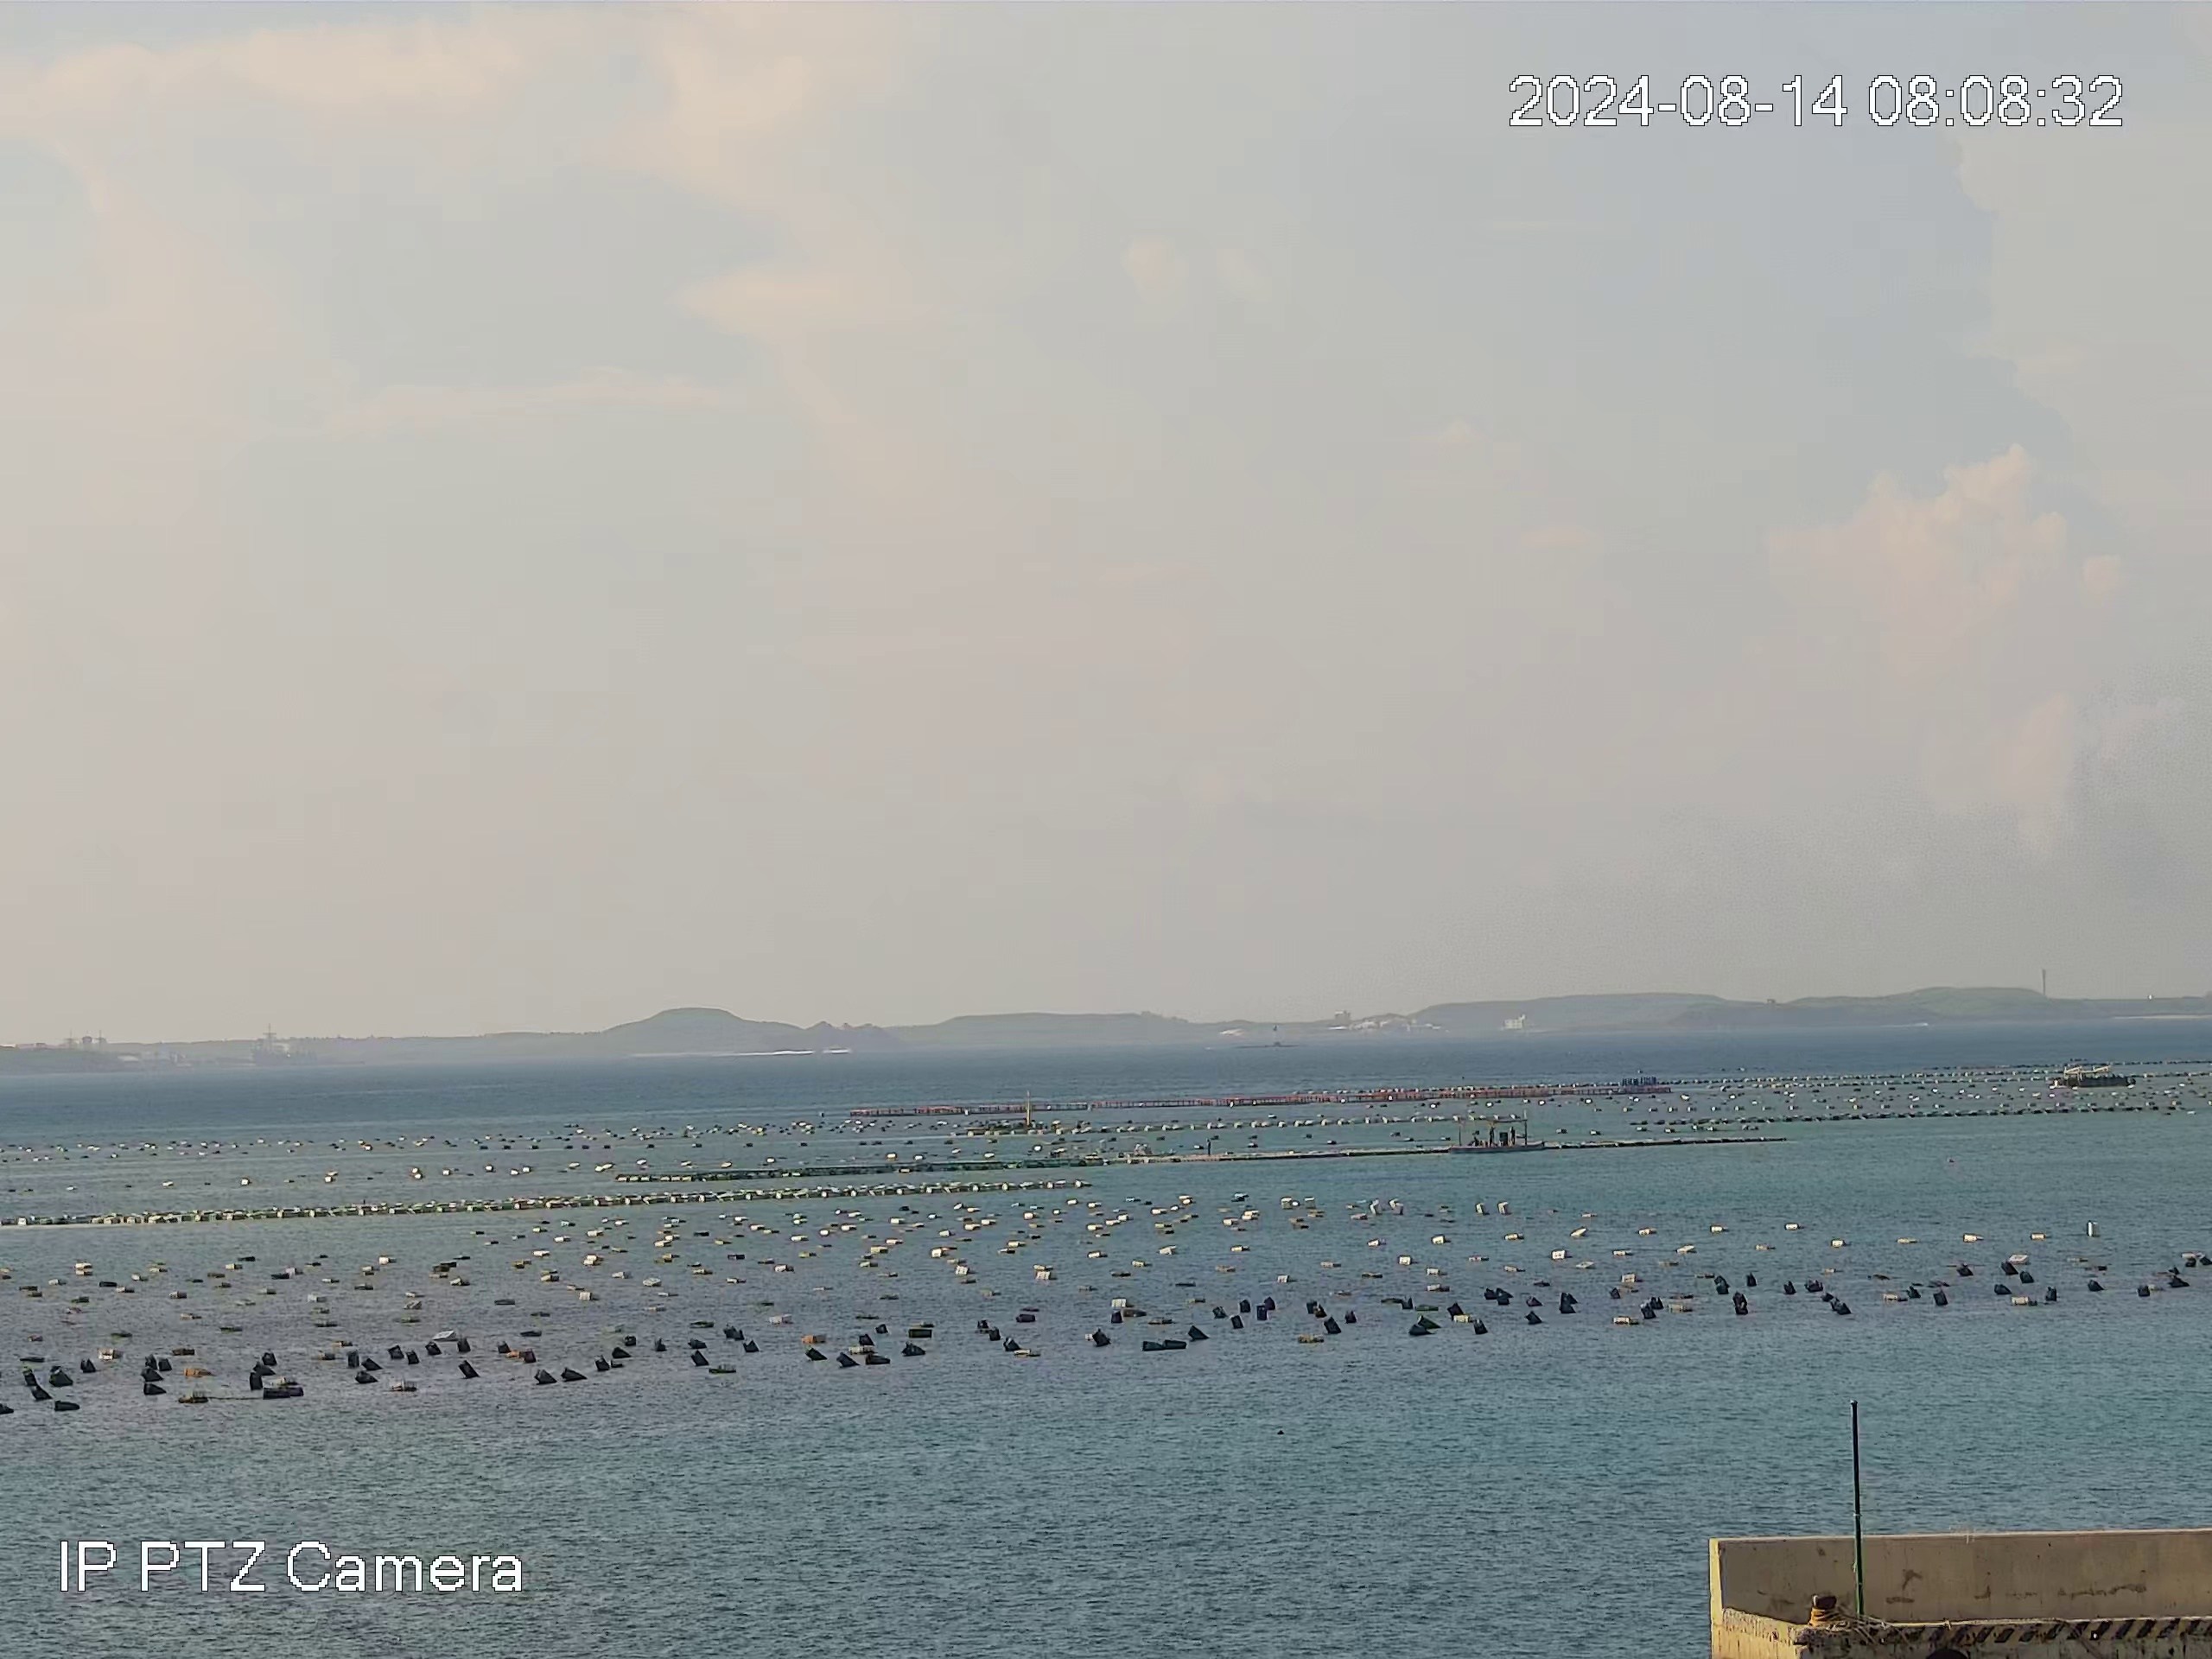boat: (1449, 1115, 1548, 1155), (2054, 1063, 2134, 1089)
